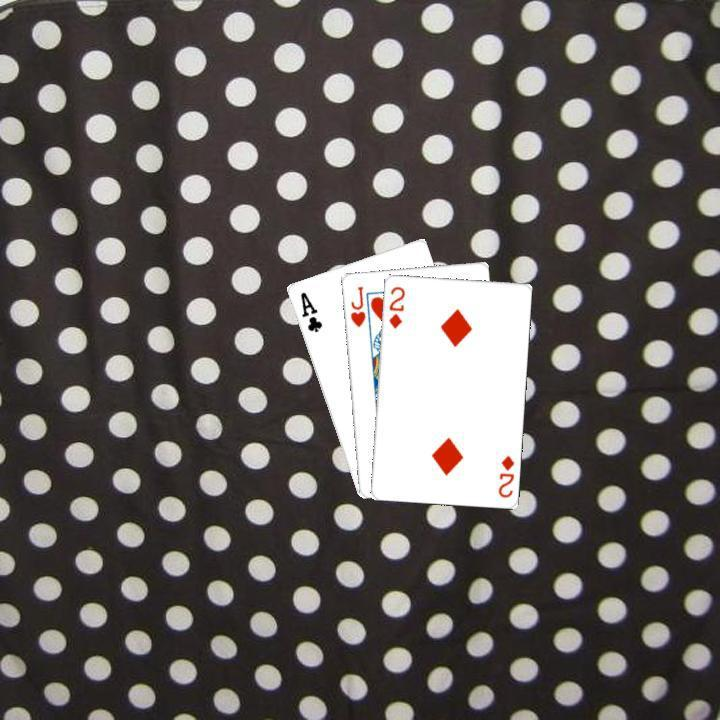2: (384, 282, 406, 330), (494, 451, 516, 499)
A: (296, 287, 324, 334)
J: (346, 282, 367, 329)
